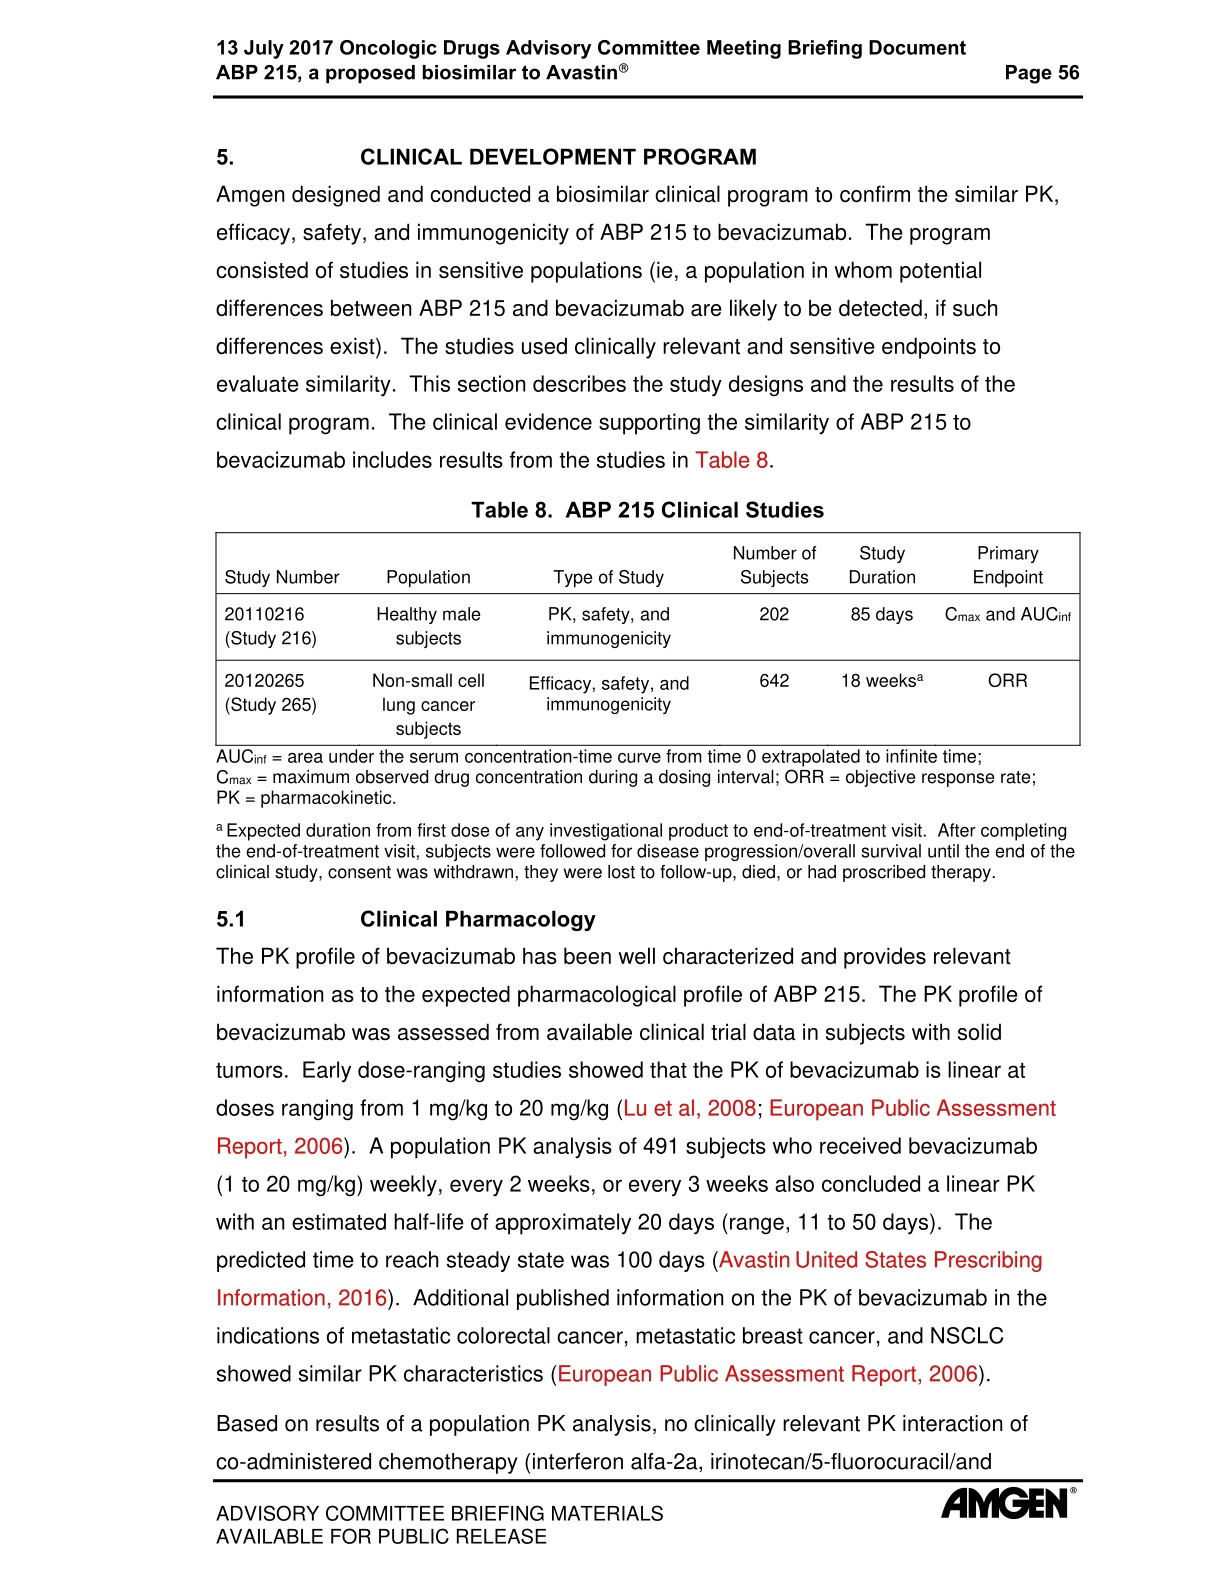partial_lined: (215, 531, 1081, 747)
